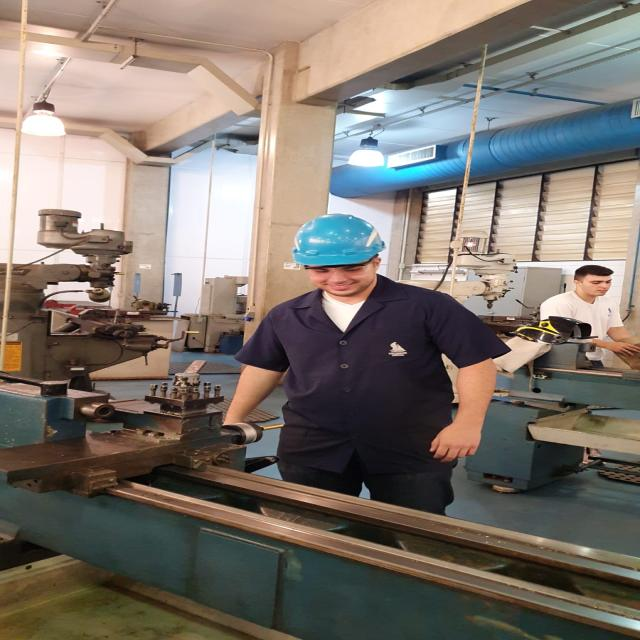oculos-epi: (303, 255, 380, 278)
sem_oculos: (576, 276, 616, 286)
